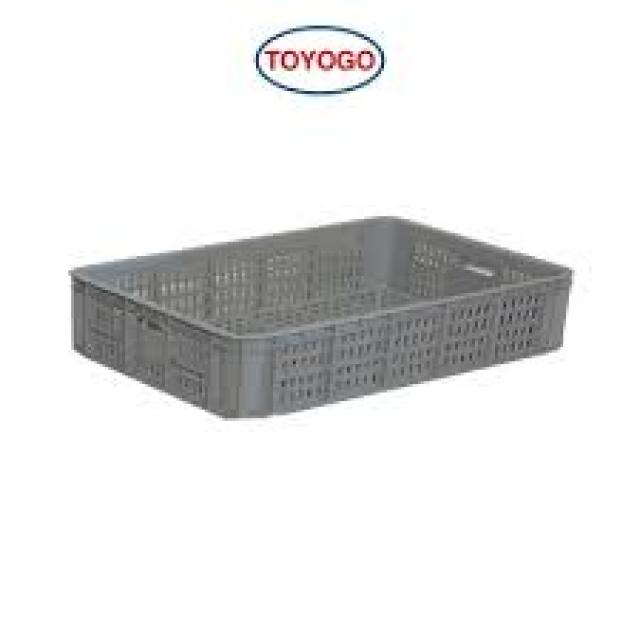basket: (61, 165, 590, 455)
